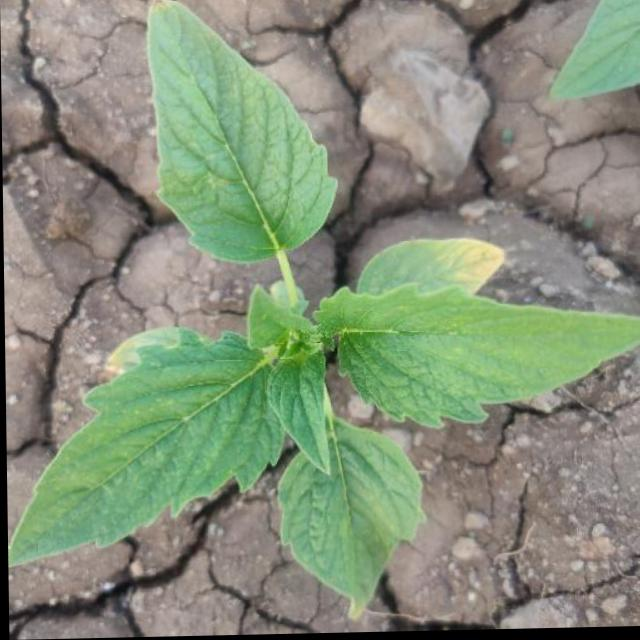crop: (1, 0, 640, 609)
